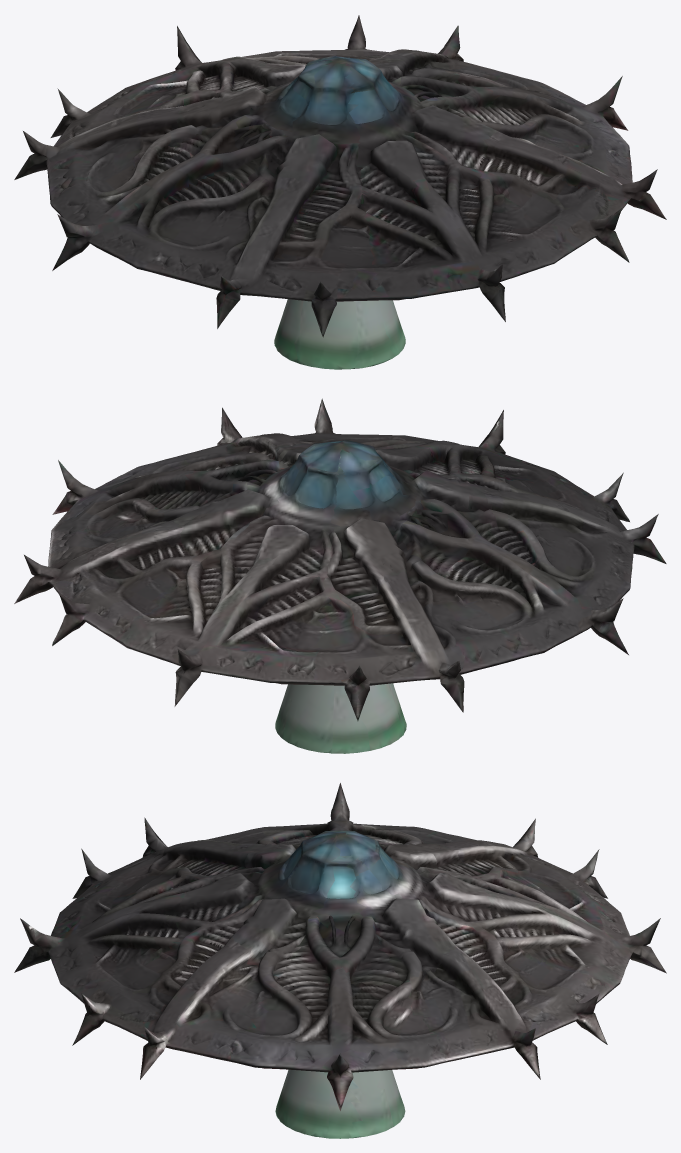
Rendered from ovni.glb.
The picture shows the model from 3 angles, top to bottom: view 1: azimuth 30°, elevation 25°; view 2: azimuth 150°, elevation 25°; view 3: azimuth 270°, elevation 25°; orthographic projection.
Parts seen in each view (by area): view 1: tripo_node_b45a7638-7f6f-4b99-8361-19f2d8b6caef; view 2: tripo_node_b45a7638-7f6f-4b99-8361-19f2d8b6caef; view 3: tripo_node_b45a7638-7f6f-4b99-8361-19f2d8b6caef.
Part boxes in pixels (x1,y1,x2,y2): tripo_node_b45a7638-7f6f-4b99-8361-19f2d8b6caef: (14,15,666,369); tripo_node_b45a7638-7f6f-4b99-8361-19f2d8b6caef: (14,398,666,753); tripo_node_b45a7638-7f6f-4b99-8361-19f2d8b6caef: (14,783,666,1138).
Bounding box in the file's own units: 0.9933 × 0.4617 × 0.9902.
1 material, 1 textured.
